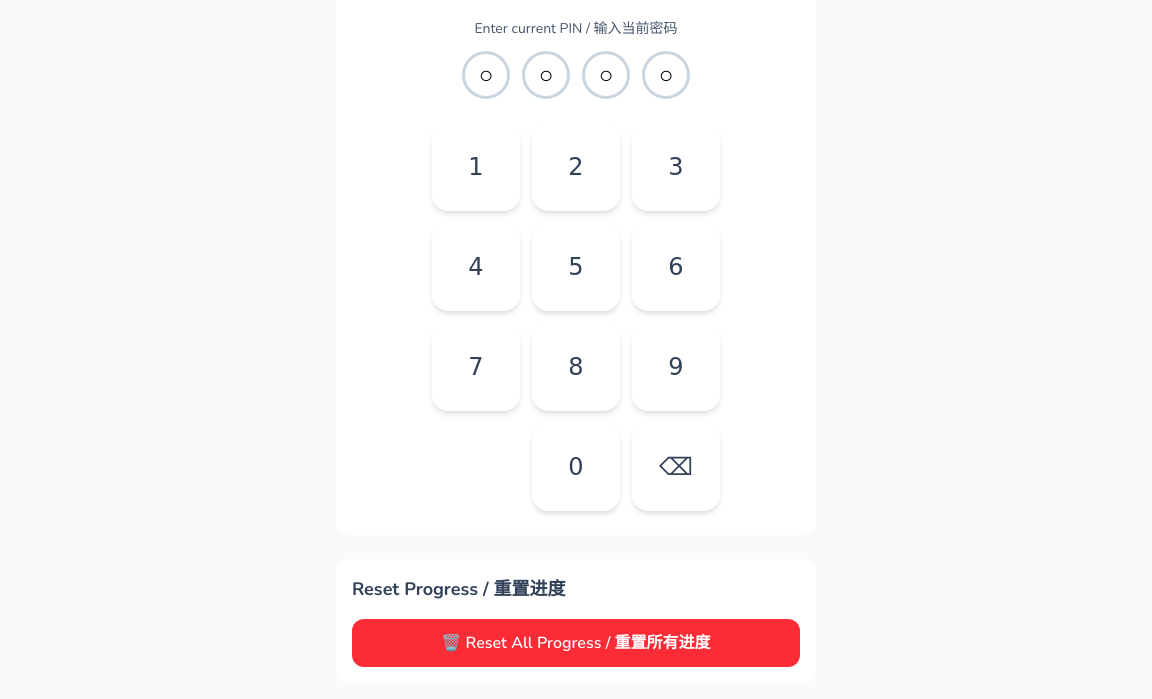
Test: ParentSettings › shows reset confirm dialog when reset button clicked
The image size is (1152, 699).
(page scrolled)
Click the button "🗑️ Reset All Progress / 重置所有进度". click: point(576, 643)
box: 352,619 -> 800,667
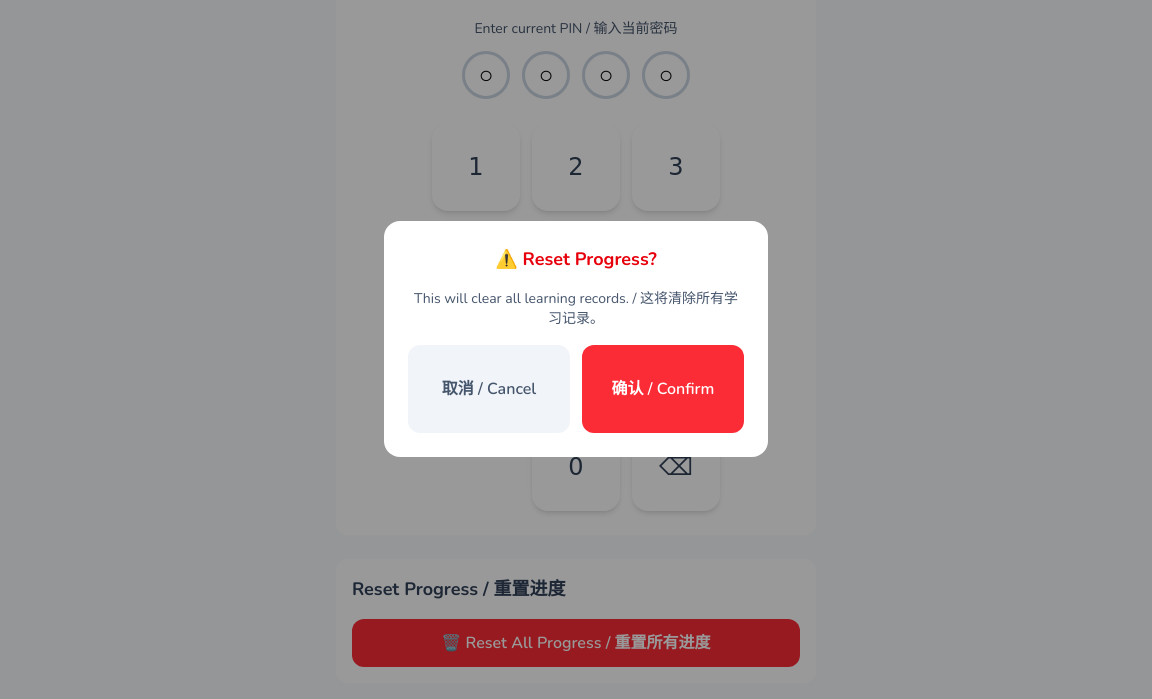
expect the heading "⚠️ Reset Progress?" is shown: met, box 495,247 -> 657,271
